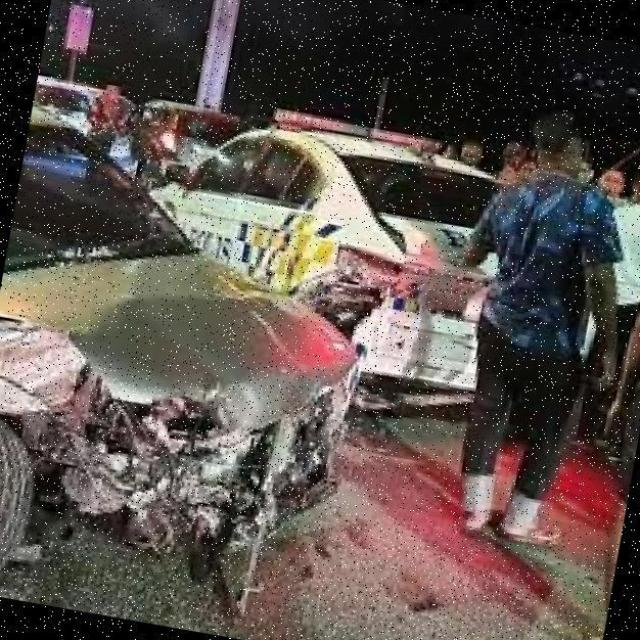accident: (0, 185, 467, 637)
